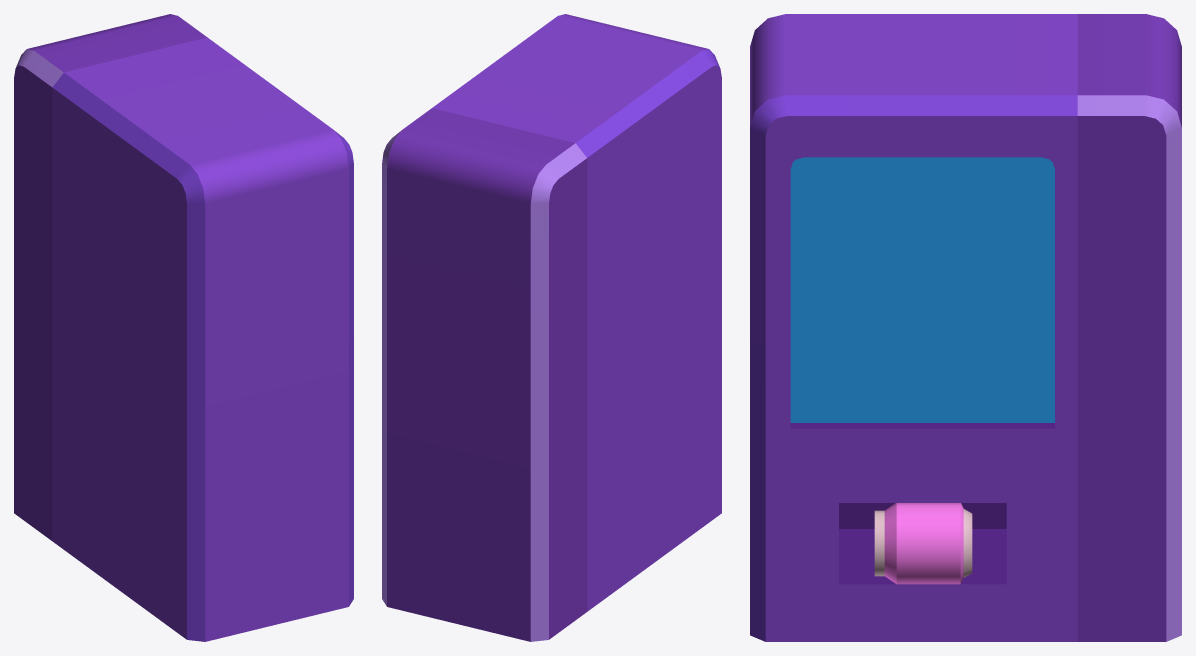
Rendered from vendingmachine.fbx.
The picture shows the model from 3 angles, left to right: view 1: azimuth 30°, elevation 25°; view 2: azimuth 150°, elevation 25°; view 3: azimuth 270°, elevation 25°; orthographic projection. The views are drawn at different scales.
Visible parts, largest first — view 1: VendingMachine; view 2: VendingMachine; view 3: VendingMachine.
Boxes of the visible parts, <box> form: VendingMachine: <box>14,14,353,641</box>; VendingMachine: <box>382,14,721,641</box>; VendingMachine: <box>750,14,1181,641</box>.
Size of the model in its own units: 0.8809 by 2.1 by 1.52.
